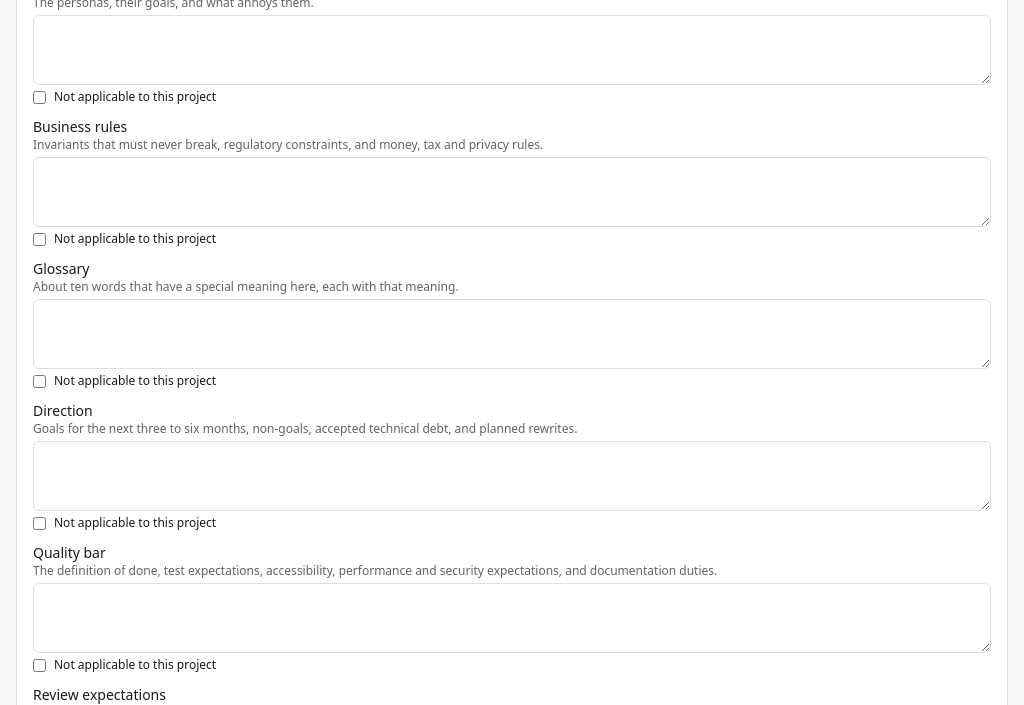
it: the business interview › proposes the answered sections with an Idempotency-Key, and shows them queued
The width and height of the screenshot is (1024, 705).
(page scrolled)
Type "Ledger — the book of record." into the text box named "Glossary".
click(512, 334); type("Ledger — the book of record.")  # box [33,299,991,369]
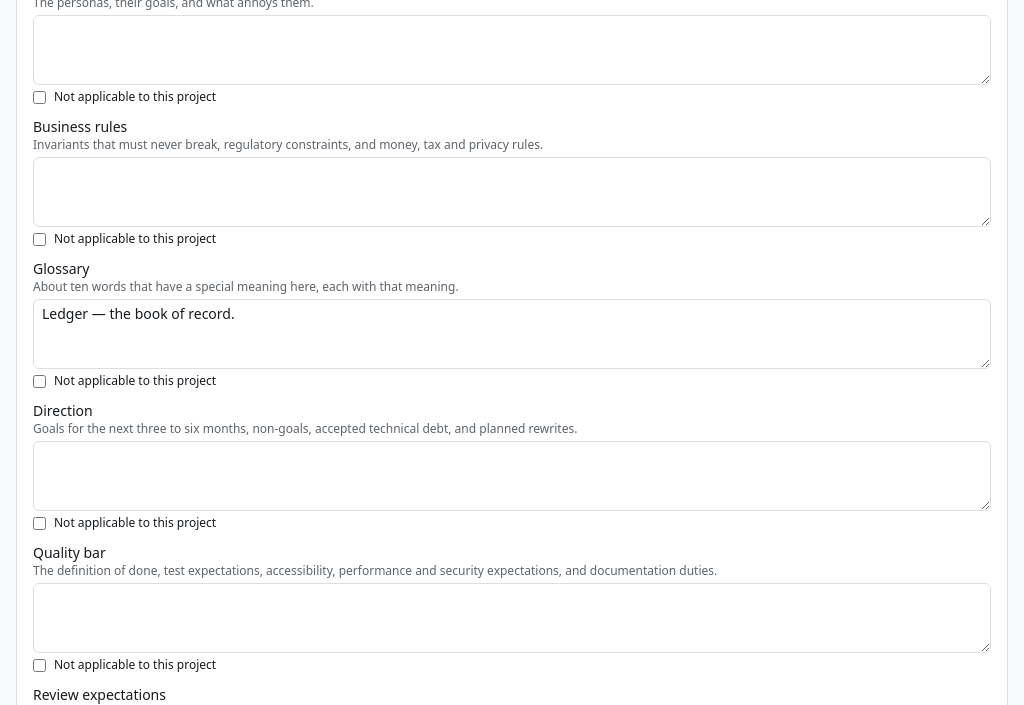
Click the checkbox labelled "Not applicable to this project" below "Users".
click(40, 97)  # box [33,90,46,104]
(page scrolled)
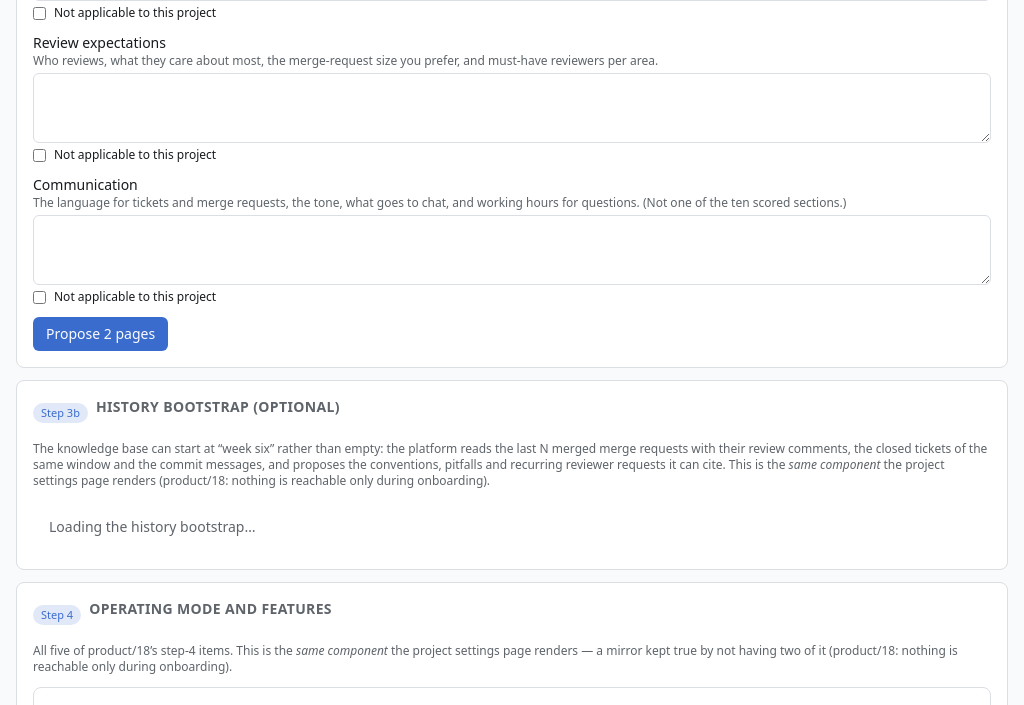
Click the button "Propose 2 pages".
click(101, 334)  # box [33,317,168,351]
(page scrolled)
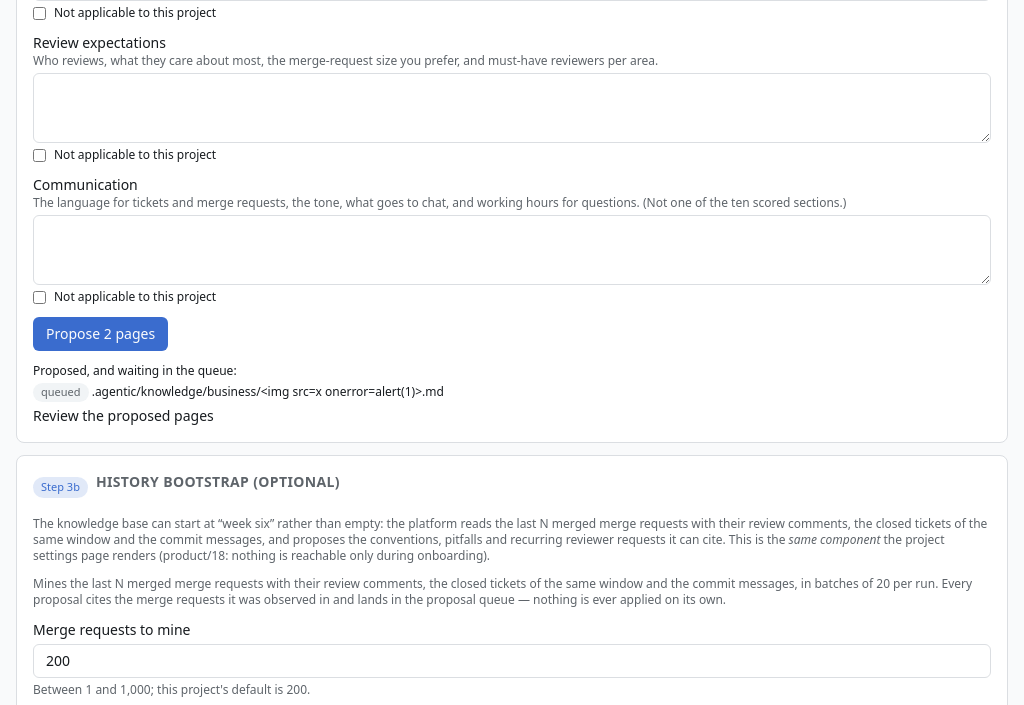
Expected: the text "Proposed, and waiting in the queue:" is shown, [33,362,237,379]
Expected: the link "Review the proposed pages" is shown, [33,406,214,425]
